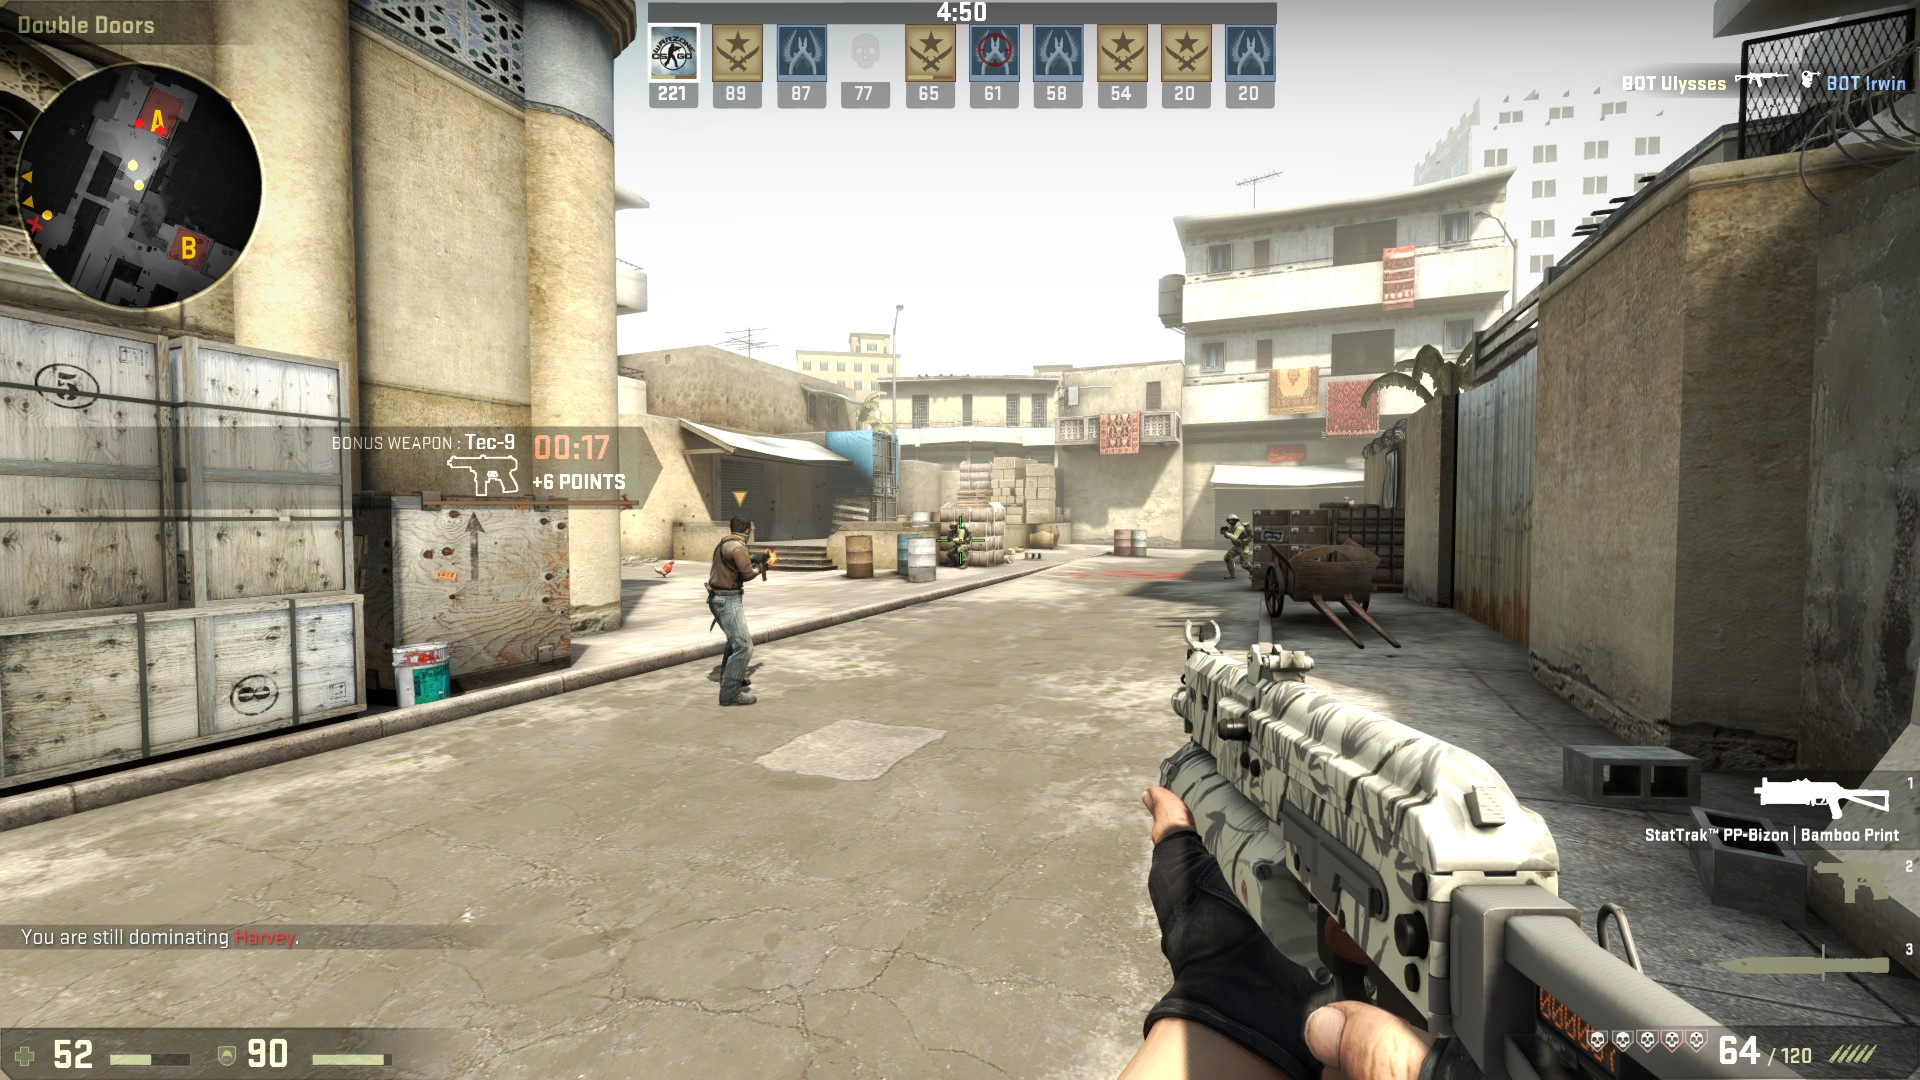c: (1218, 512, 1261, 582), (945, 521, 975, 571)
ch: (1225, 512, 1242, 527), (949, 522, 963, 534)
t: (707, 516, 769, 708)
th: (728, 516, 756, 545)
